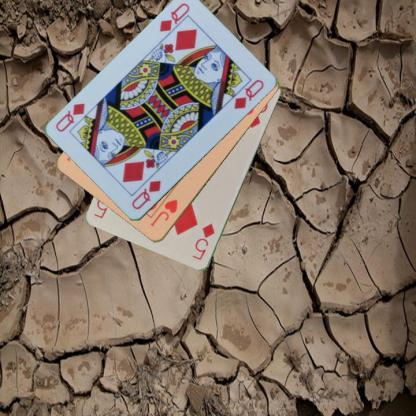5d: (190, 221, 216, 262)
Jh: (147, 197, 179, 228)
Qd: (156, 1, 191, 41), (129, 178, 162, 211)
